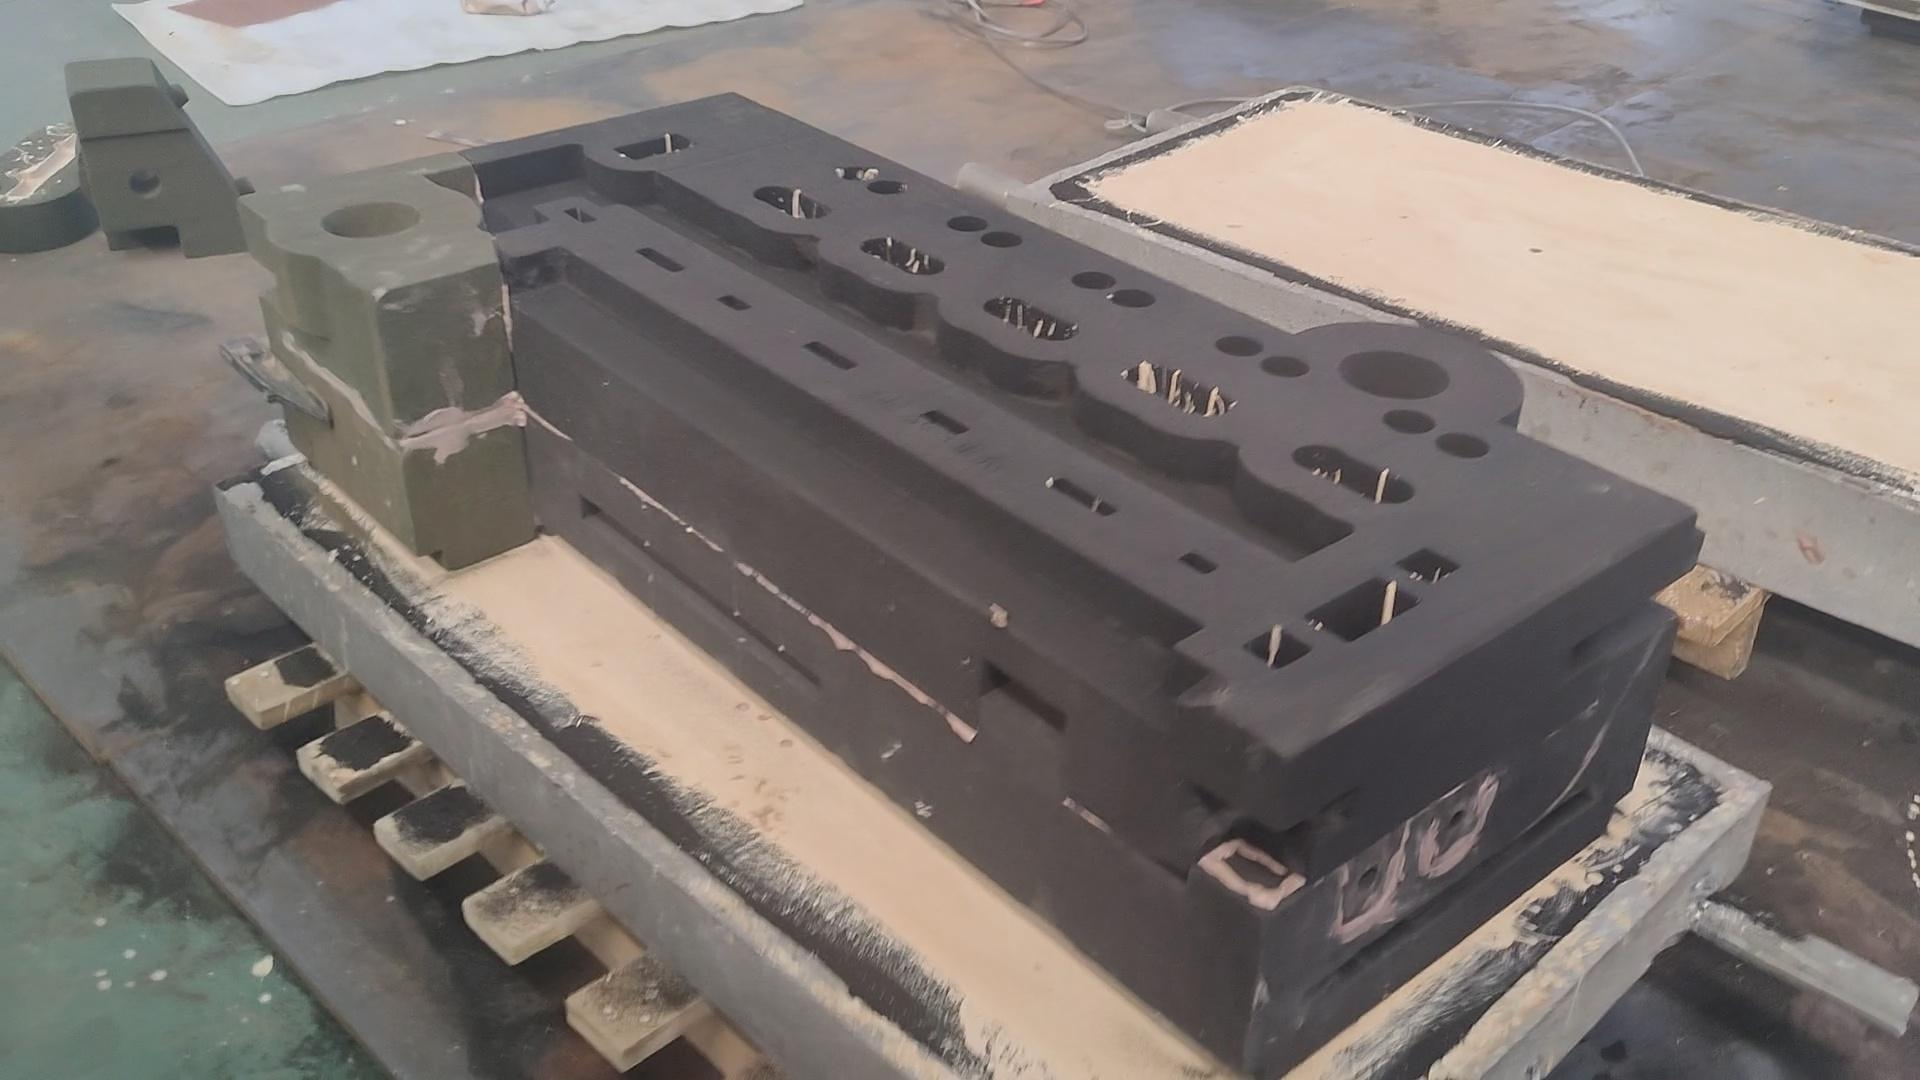pouring hole: (1335, 349, 1453, 401), (320, 199, 423, 237)
